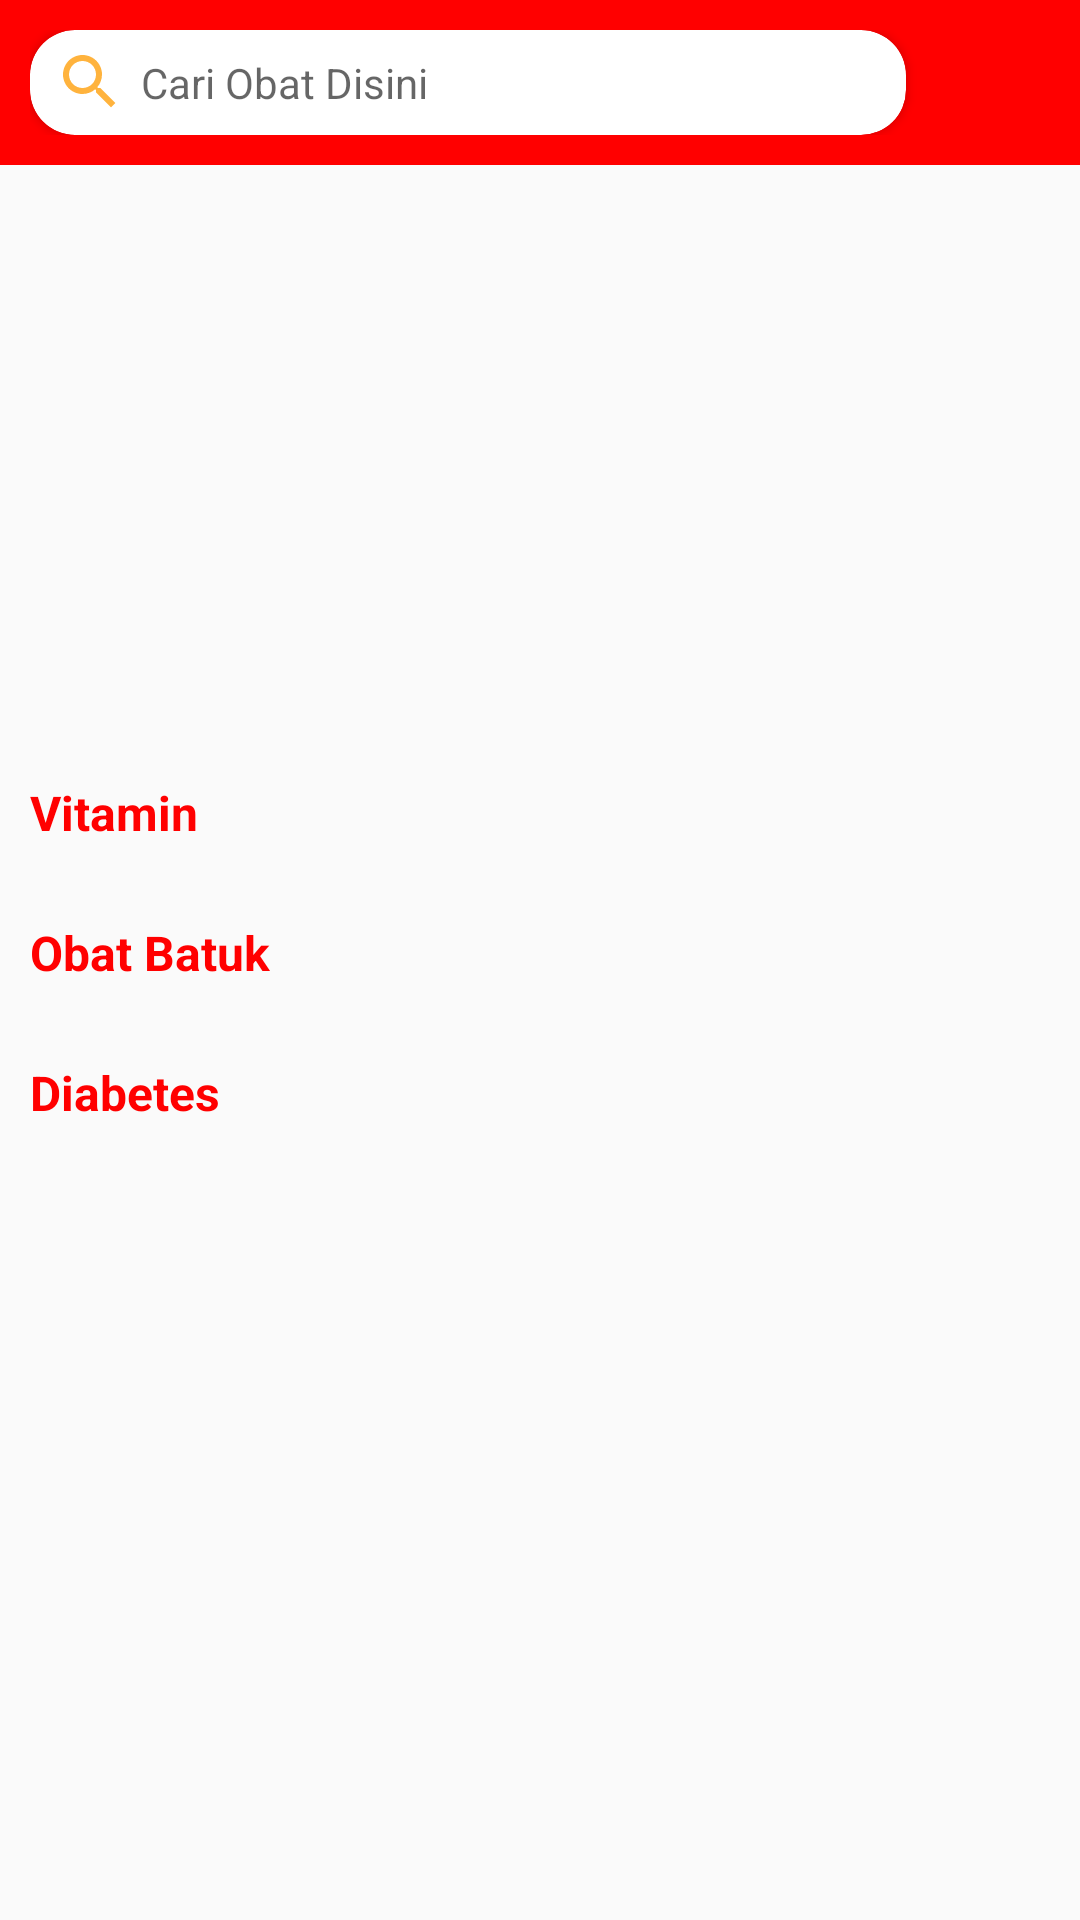

Named icons in this screenshot (1080x1920) and their bounding boxes, (x1, y1, x2, y2):
search: (63, 55, 115, 107)
